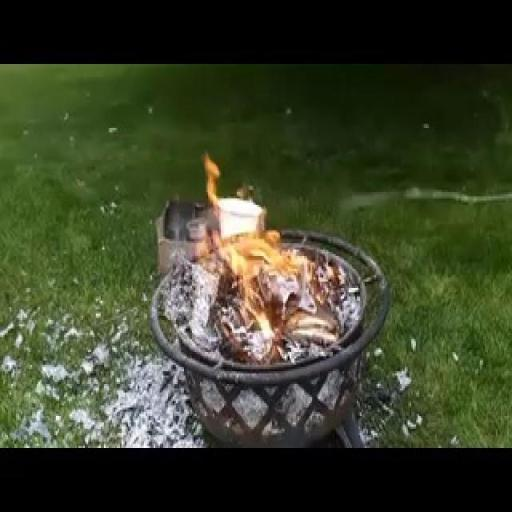smoke: (151, 79, 342, 365)
